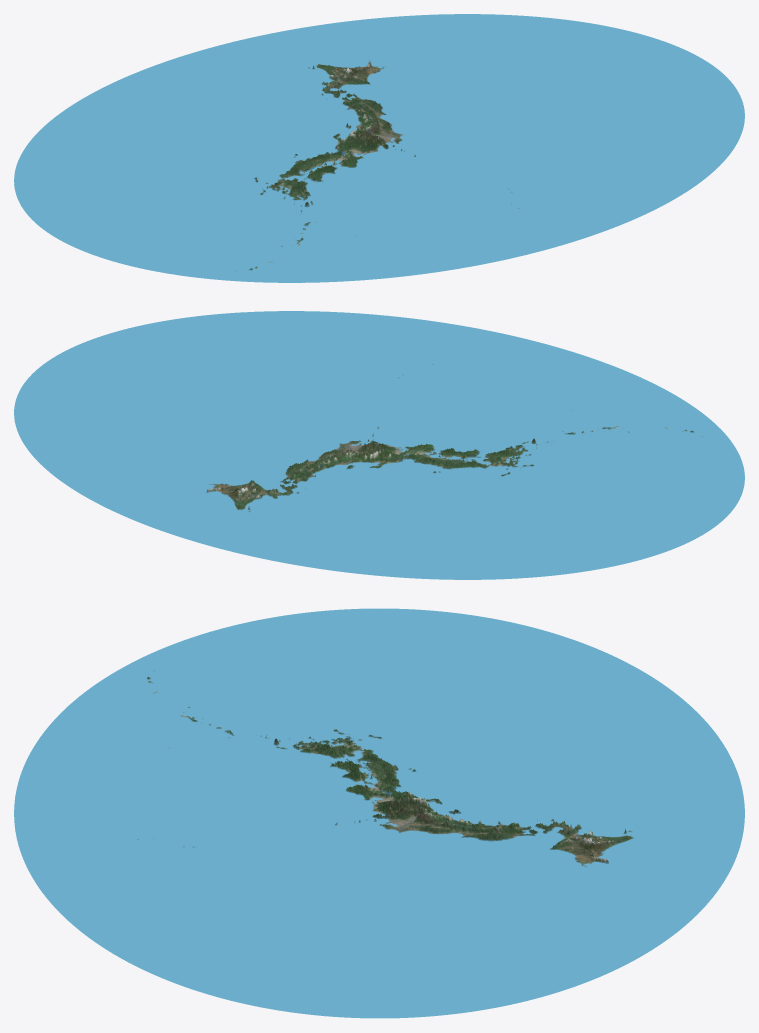
The model's file is JPN-previa-terrain.glb.
3 renders of one model, top to bottom at view 1: azimuth 30°, elevation 25°; view 2: azimuth 150°, elevation 25°; view 3: azimuth 270°, elevation 25°, orthographic. The views are drawn at different scales.
Visible parts, largest first — view 1: Japão; view 2: Japão; view 3: Japão.
Part boxes in pixels (x1=…): Japão: x1=14, y1=14, x2=744, y2=282; Japão: x1=14, y1=311, x2=744, y2=579; Japão: x1=14, y1=608, x2=744, y2=1018.
Size of the model in its own units: 2.8 by 0.0322 by 2.11.
Materials: 1 (1 with a texture image).
